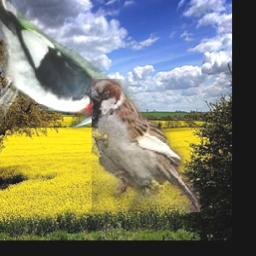Sparrow: (91, 80, 199, 213)
Woodpecker: (0, 0, 129, 129)
